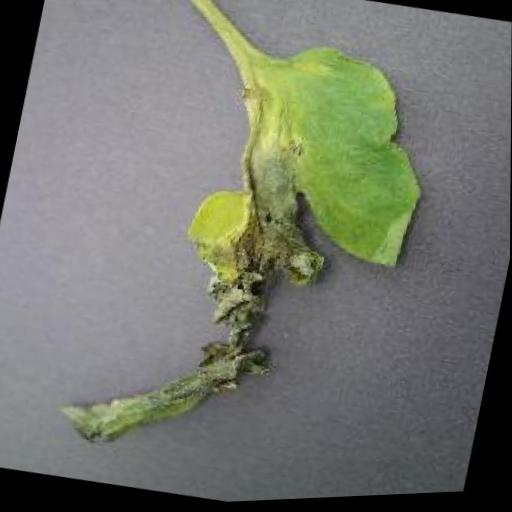Late Blight: (52, 8, 448, 505)
